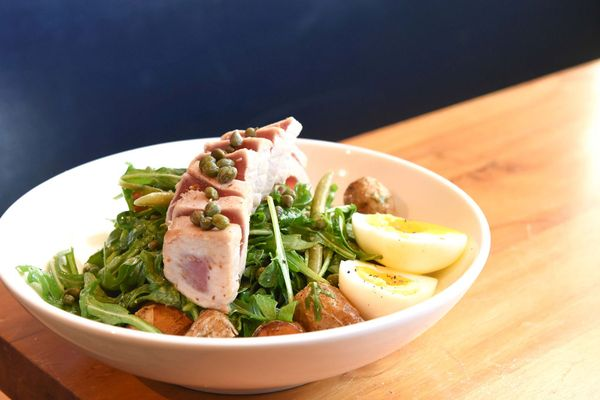steak: (352, 212, 467, 275), (338, 259, 447, 320)
sushi: (3, 131, 493, 393)
